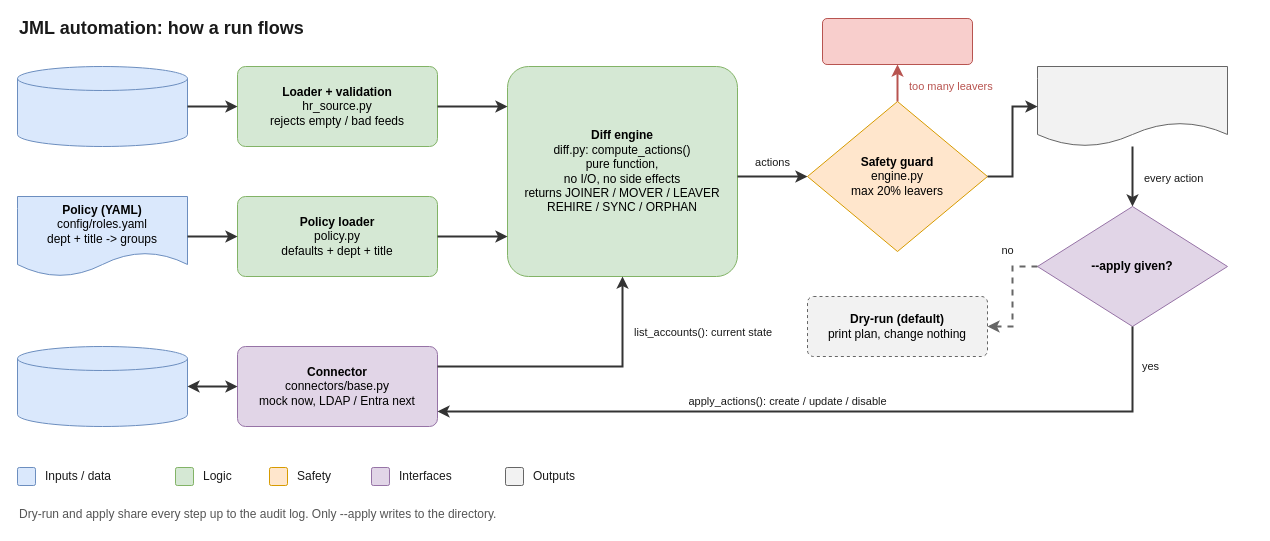
Image size: 1270x541. Some labels were removed from this diagram. The centre of each missing label's shape, as x and y in pixels:
ABORT (exit 2): the point at 897,41
Audit log audit.py append-only JSONL: the point at 1132,106
Directory state/directory.json (mock for now): the point at 102,386
HR feed (CSV) data/hr_sample.csv source of truth: the point at 102,106
